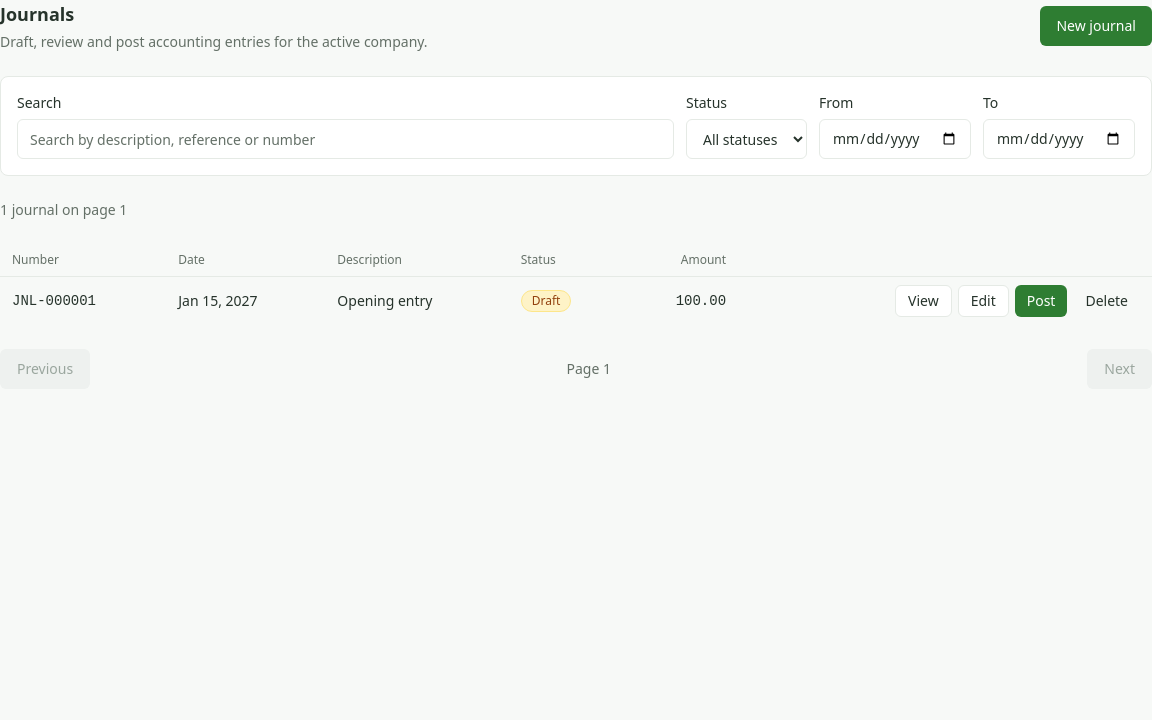
Test: JournalsView › opens the post confirmation for a draft row
This screenshot has width=1152, height=720.
Click the button "Post". click: [1041, 301]
box: [1015,285,1067,317]
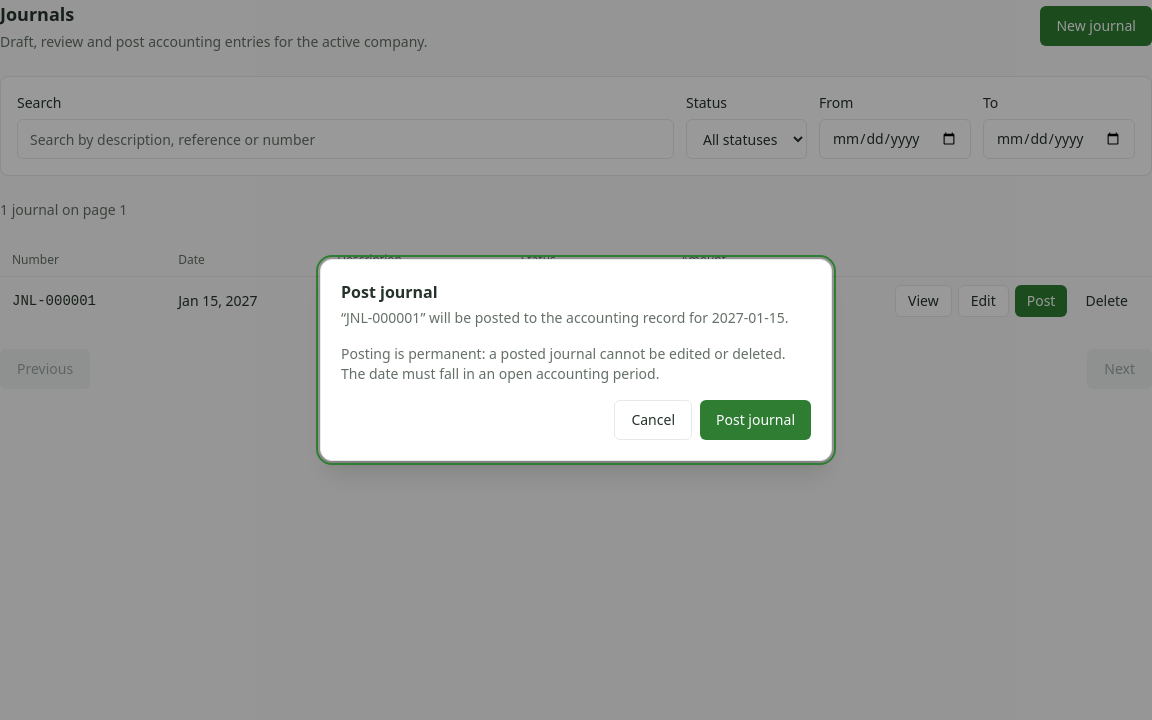
Result: the dialog "Post journal" is shown at [320,259,832,461]
Result: the text "Posting is permanent" is shown at [341,344,786,383]
